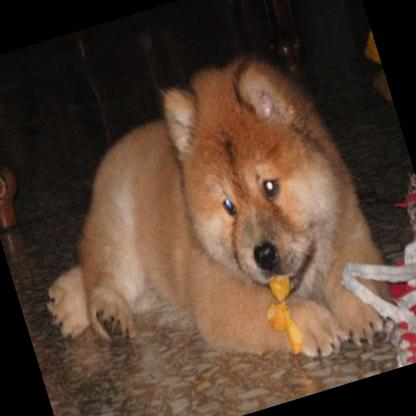chow: (0, 30, 405, 416)
